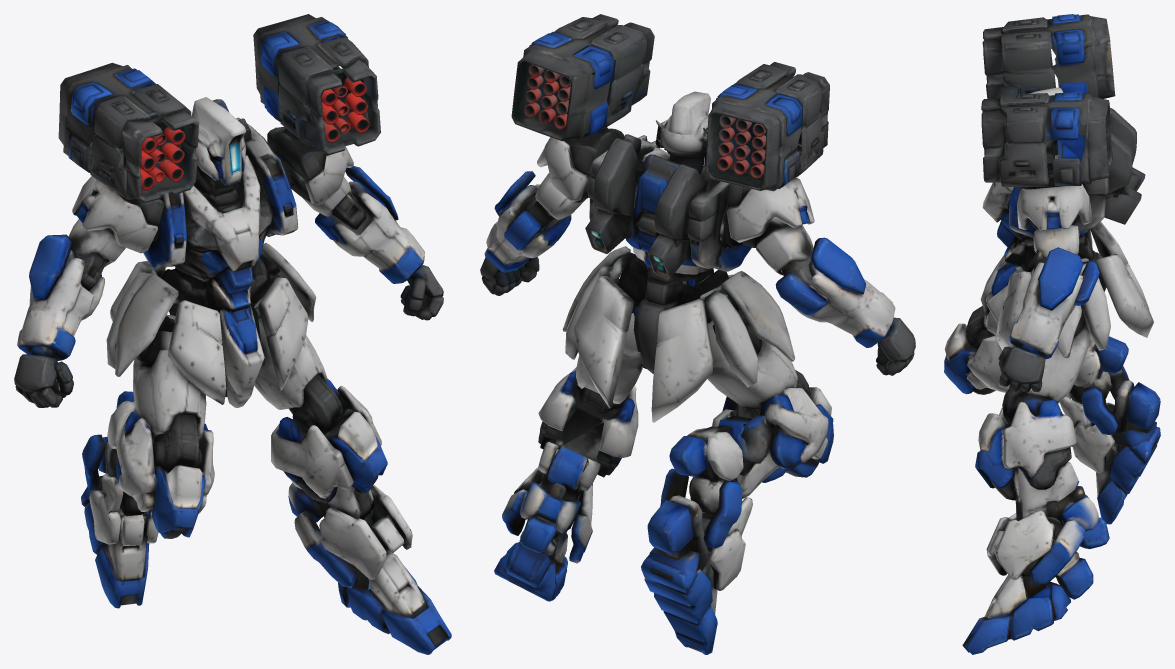
File: MechFly.glb
The picture shows the model from 3 angles, left to right: view 1: azimuth 30°, elevation 25°; view 2: azimuth 150°, elevation 25°; view 3: azimuth 270°, elevation 25°; orthographic projection. The views are drawn at different scales.
Visible parts, largest first — view 1: tripo_node_86a74c4a-54ac-489e-9cf8-6315745f5f87; view 2: tripo_node_86a74c4a-54ac-489e-9cf8-6315745f5f87; view 3: tripo_node_86a74c4a-54ac-489e-9cf8-6315745f5f87.
Part boxes in pixels (box(x1,y1,x2,y2)): tripo_node_86a74c4a-54ac-489e-9cf8-6315745f5f87: box(14, 14, 451, 654); tripo_node_86a74c4a-54ac-489e-9cf8-6315745f5f87: box(480, 14, 915, 654); tripo_node_86a74c4a-54ac-489e-9cf8-6315745f5f87: box(944, 14, 1160, 654).
Size of the model in its own units: 0.7388 by 0.9985 by 0.3765.
1 material, 1 textured.
